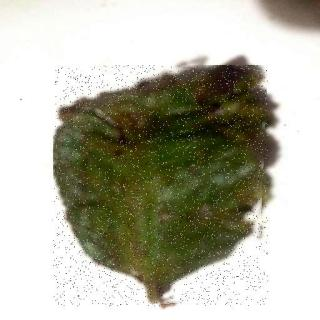Red Leaf Spot: (54, 66, 269, 307)
